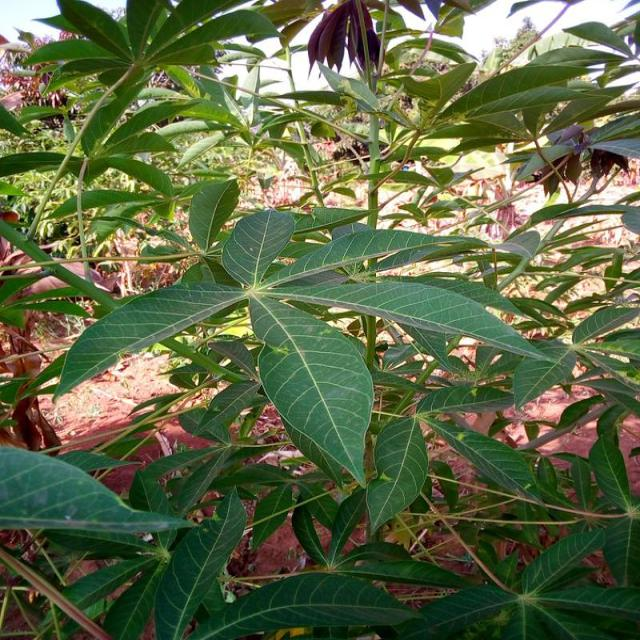cassava leaf: (248, 292, 374, 490), (0, 443, 194, 552)
